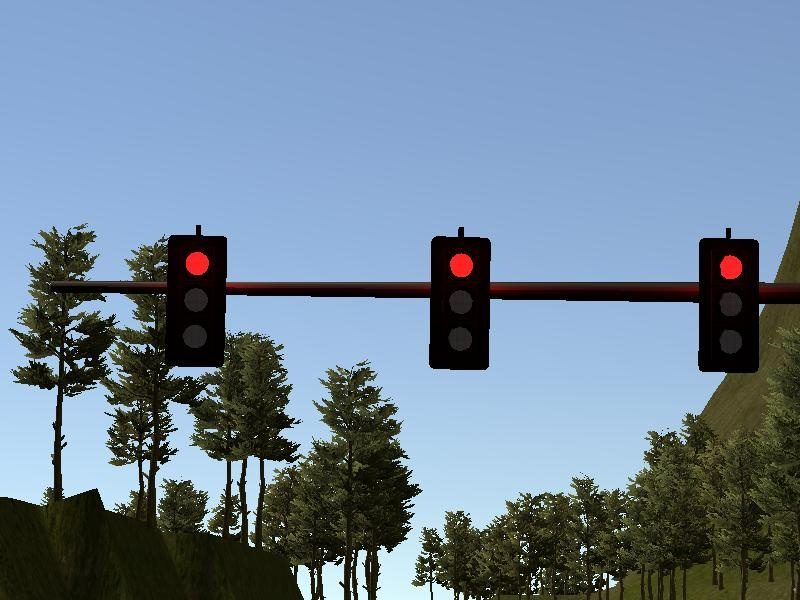Red: (694, 234, 764, 378), (162, 230, 230, 371), (428, 233, 494, 375)
